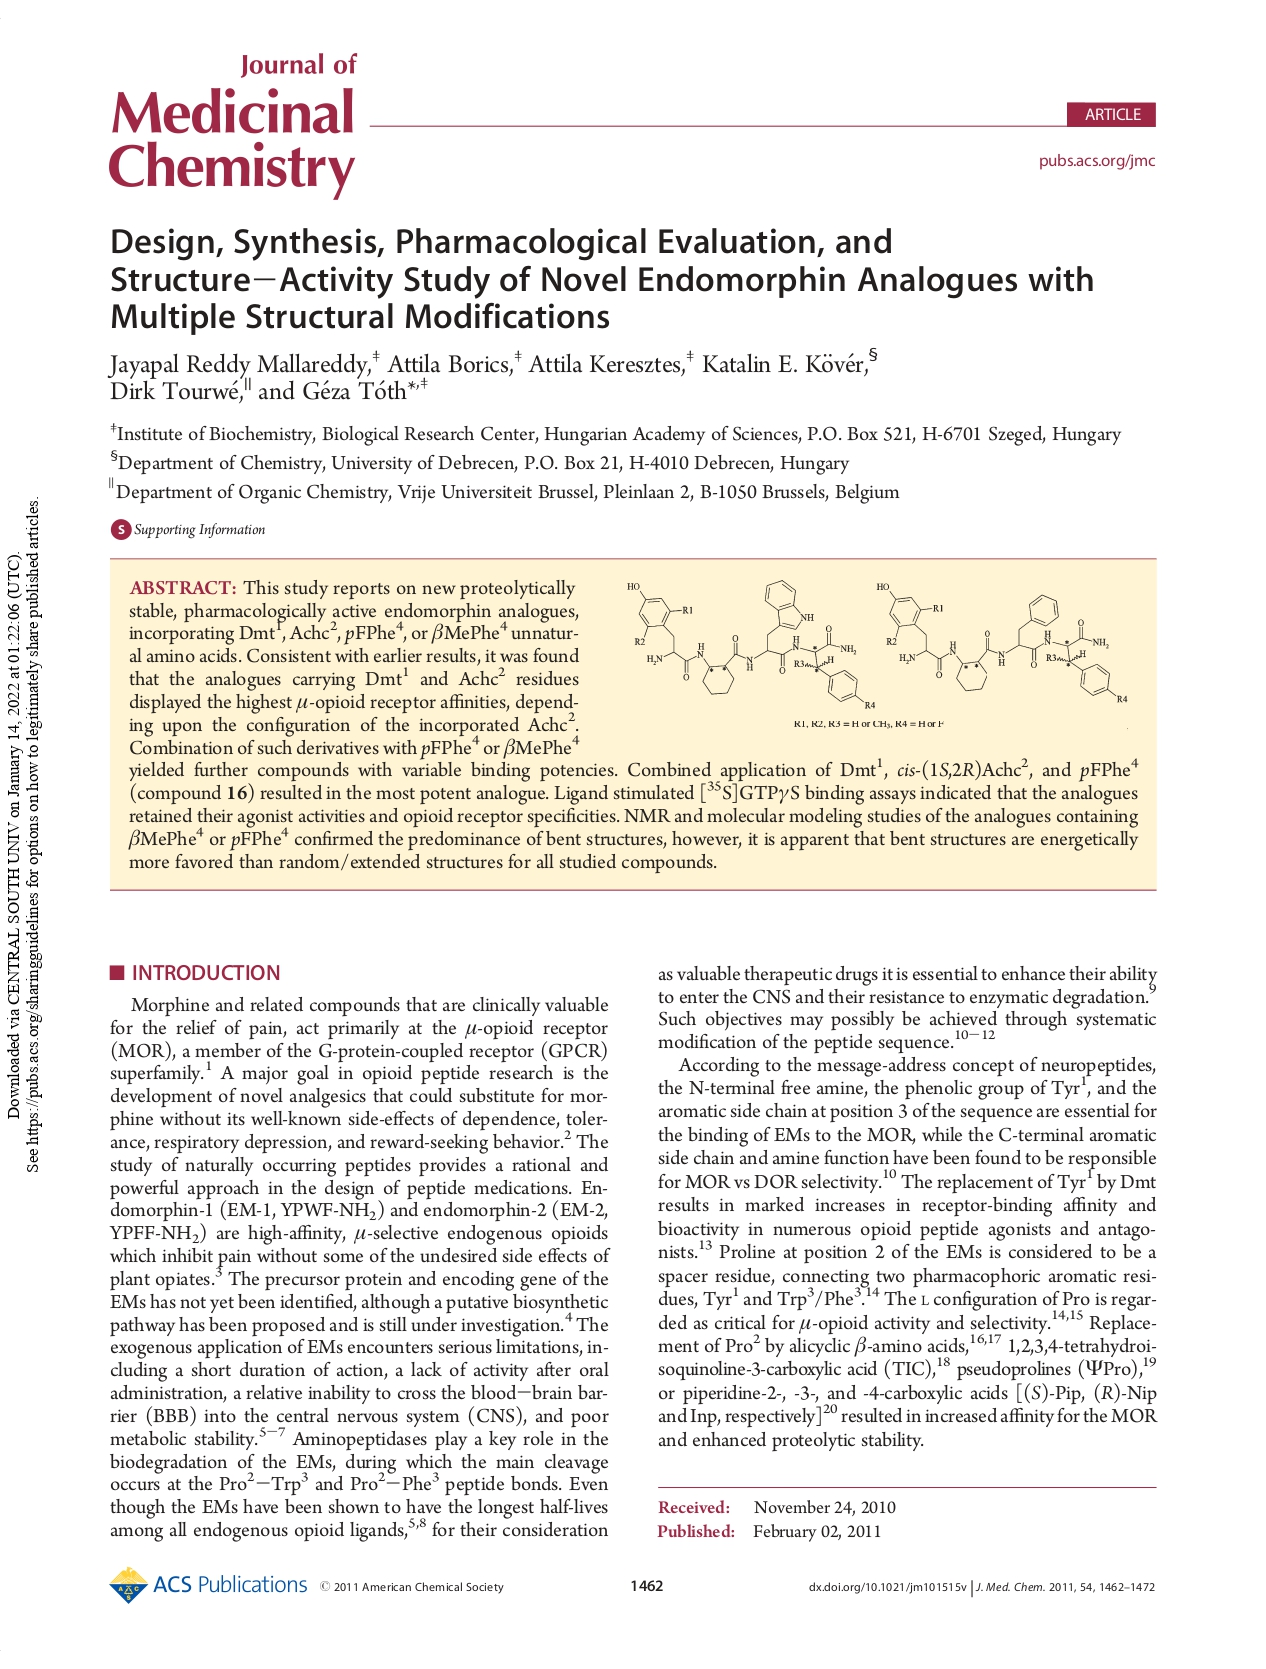exist_molecular: (624, 572, 875, 711), (876, 578, 1128, 707)
